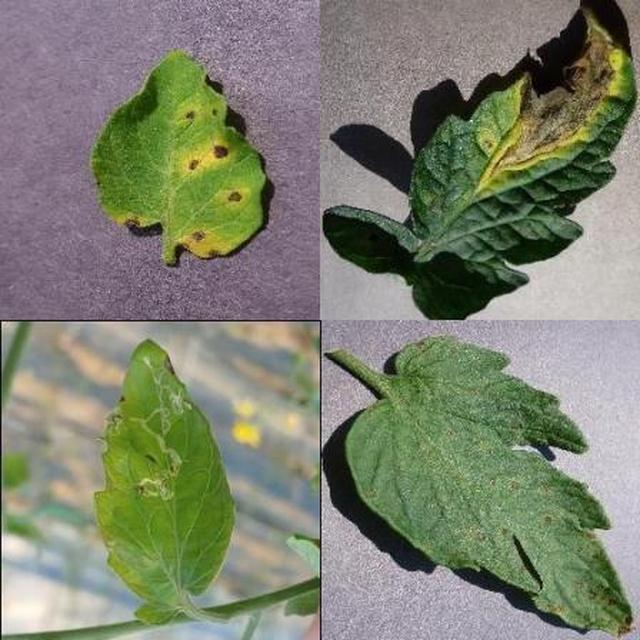Septoria Leaf: (204, 221, 640, 640)
